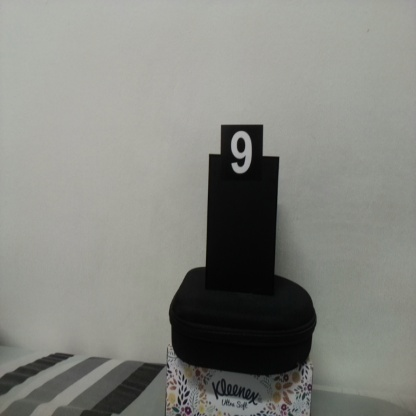id_9: (221, 125, 263, 194)
